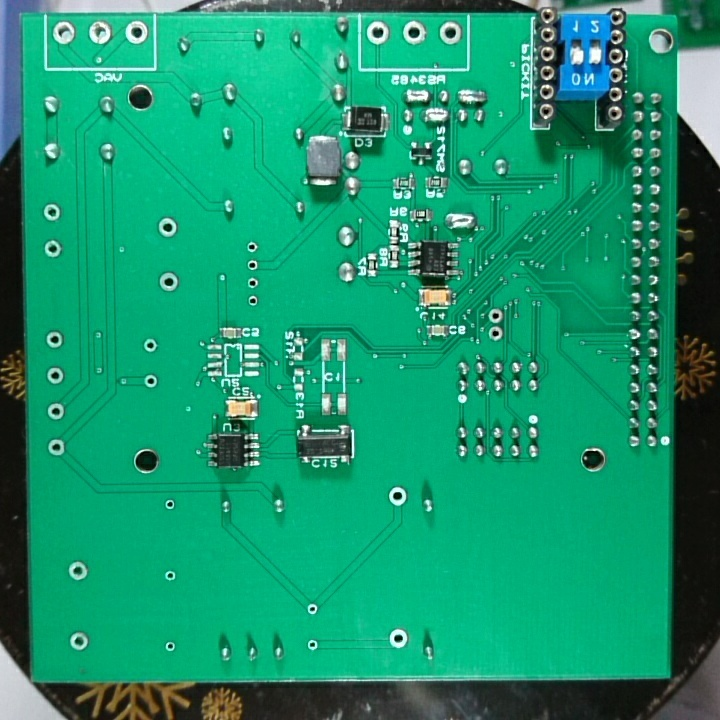F: (399, 18, 429, 49), (362, 18, 391, 48), (50, 19, 78, 47), (85, 19, 113, 46), (122, 18, 149, 46), (64, 627, 92, 654), (437, 18, 463, 47), (385, 484, 411, 510), (385, 626, 411, 652), (156, 270, 182, 295), (65, 558, 89, 585), (155, 215, 180, 240), (42, 326, 67, 351), (41, 236, 64, 261), (40, 200, 63, 224), (45, 400, 68, 424), (45, 436, 68, 459), (43, 364, 65, 386), (141, 370, 160, 393), (139, 335, 160, 355), (485, 323, 505, 344), (159, 495, 179, 515), (486, 306, 506, 325), (245, 292, 264, 311), (242, 274, 262, 292), (302, 635, 320, 655), (160, 637, 178, 655), (304, 600, 321, 619), (162, 566, 178, 585), (244, 238, 260, 256), (244, 258, 262, 274)
P: (441, 210, 479, 232), (454, 86, 490, 107), (402, 86, 433, 106), (420, 106, 450, 124)
